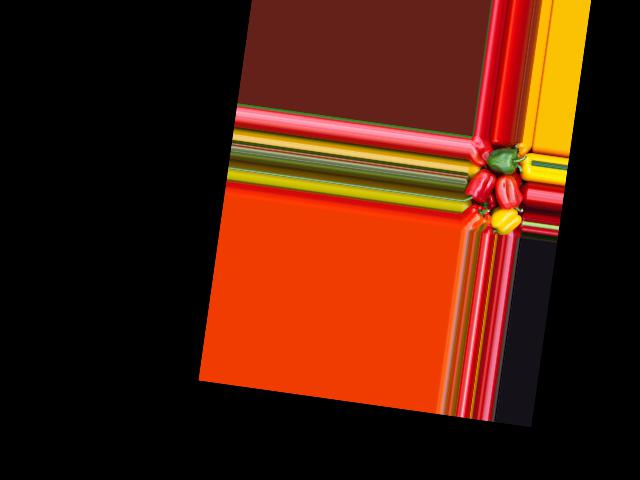bell_pepper: (486, 203, 524, 237)
